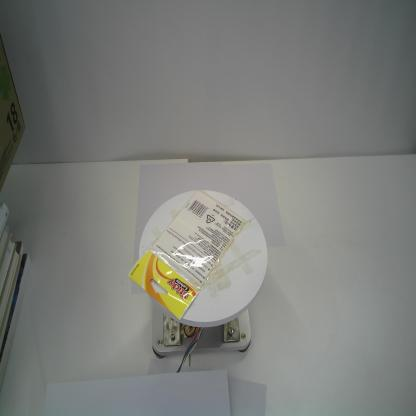Stationery: (128, 186, 246, 322)
